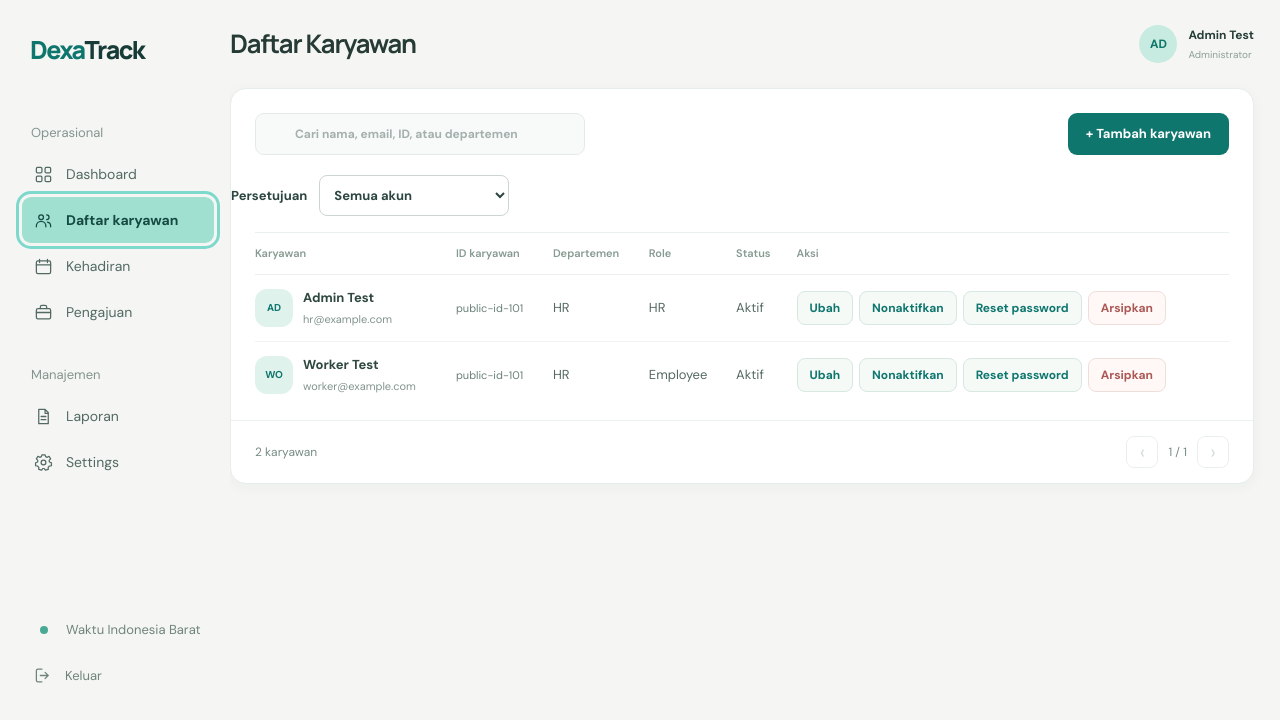
it: authenticated application › logs in through gateway, removes demo identity controls, and revokes session on logout
Earlier steps of the test are not shown.
Check: the text "Worker Test" is shown, box 303,356 -> 379,373
Click the button "+ Tambah karyawan": (1148, 134) 1068,113 -> 1229,155
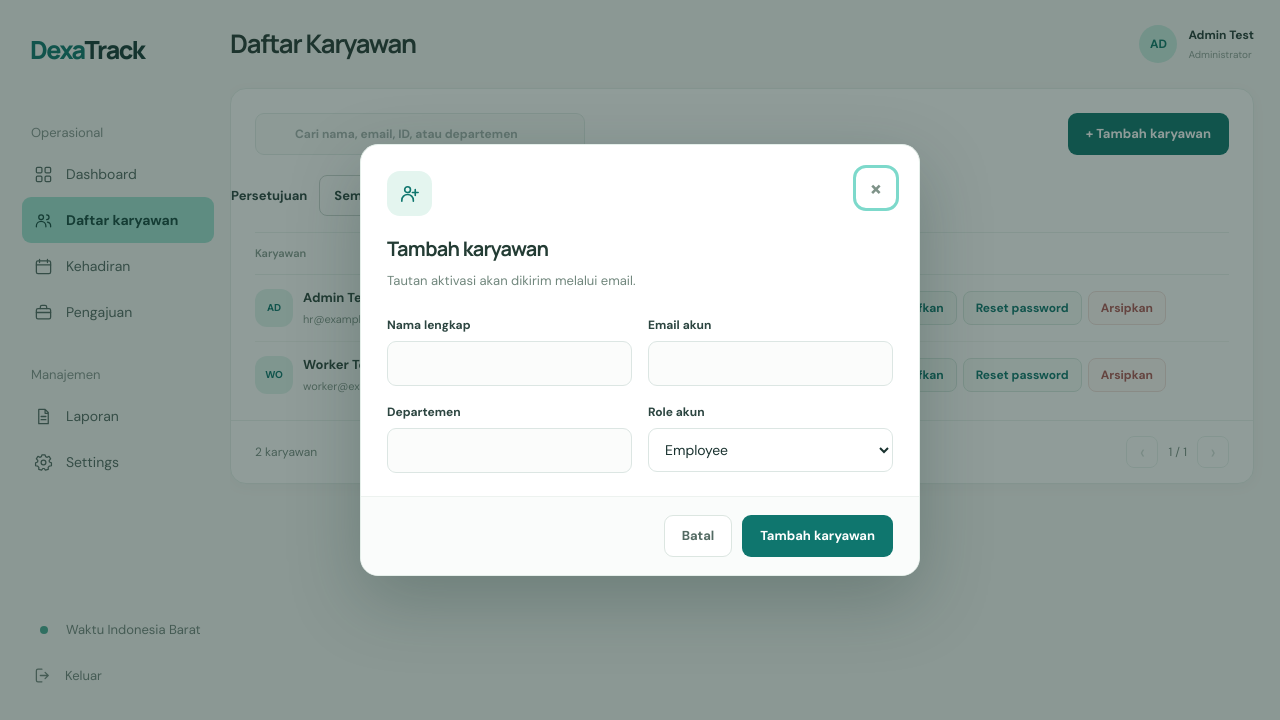
In the field labelled "Nama lengkap": (510, 363) 387,341 -> 632,386, type "New Worker"
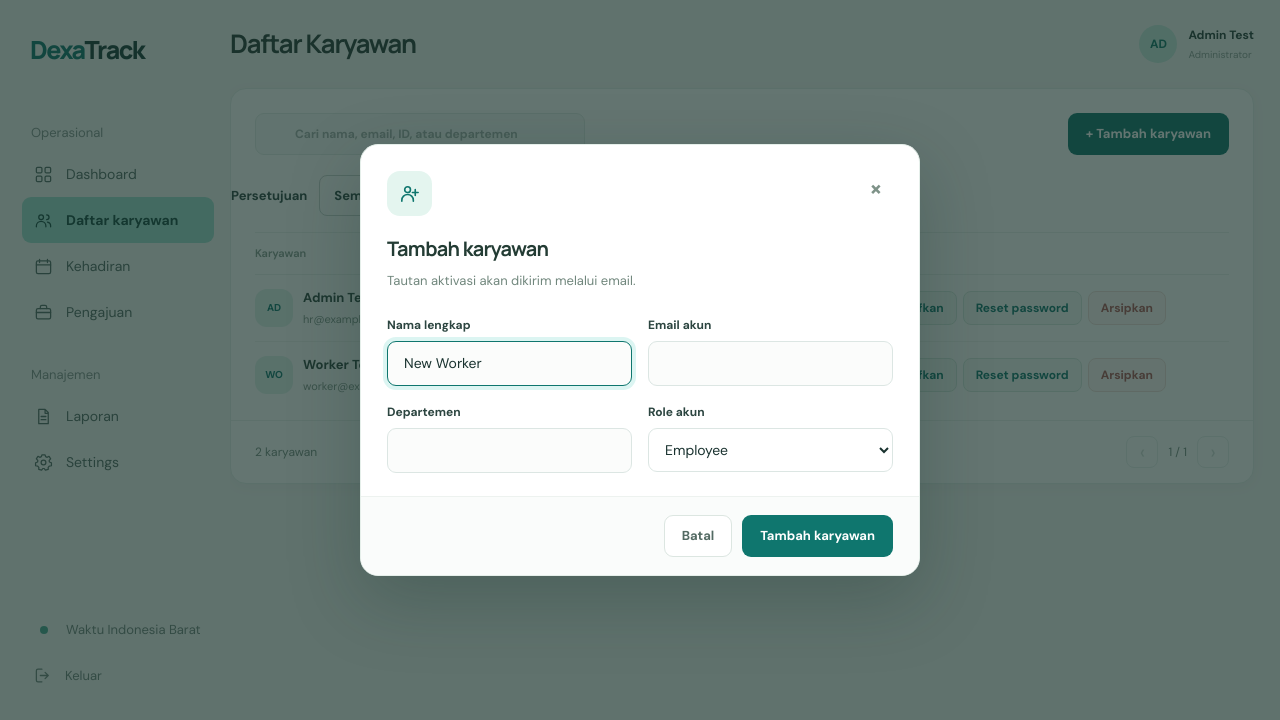
In the field labelled "Email akun": (770, 363) 648,341 -> 893,386, type "new@example.com"
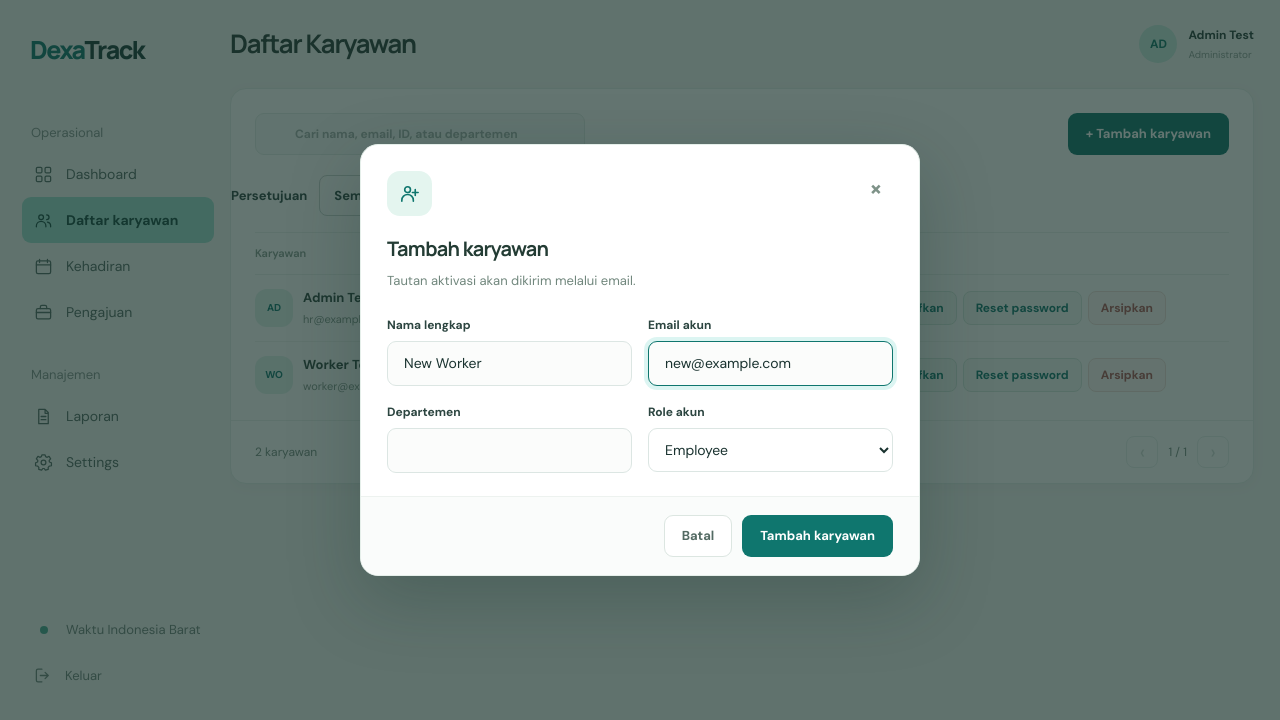
In the field labelled "Departemen": (510, 450) 387,428 -> 632,473, type "Engineering"
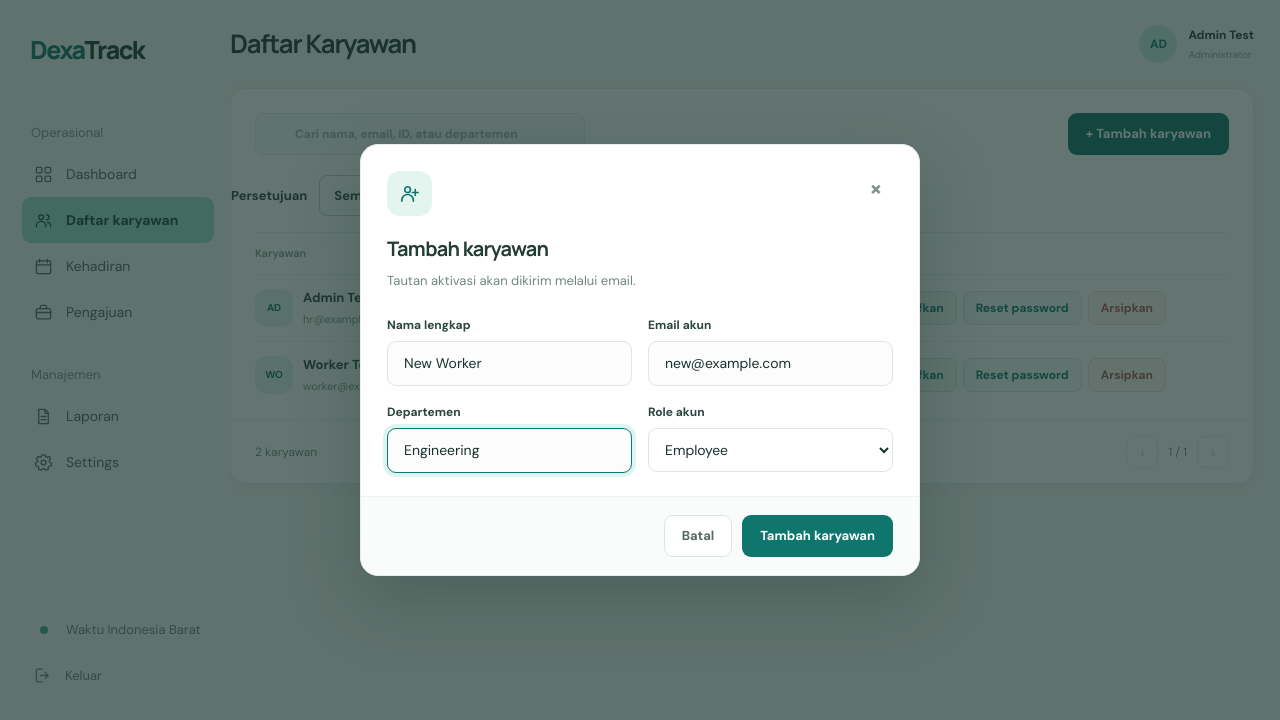
Click the button "Tambah karyawan": (818, 536) 742,515 -> 893,557
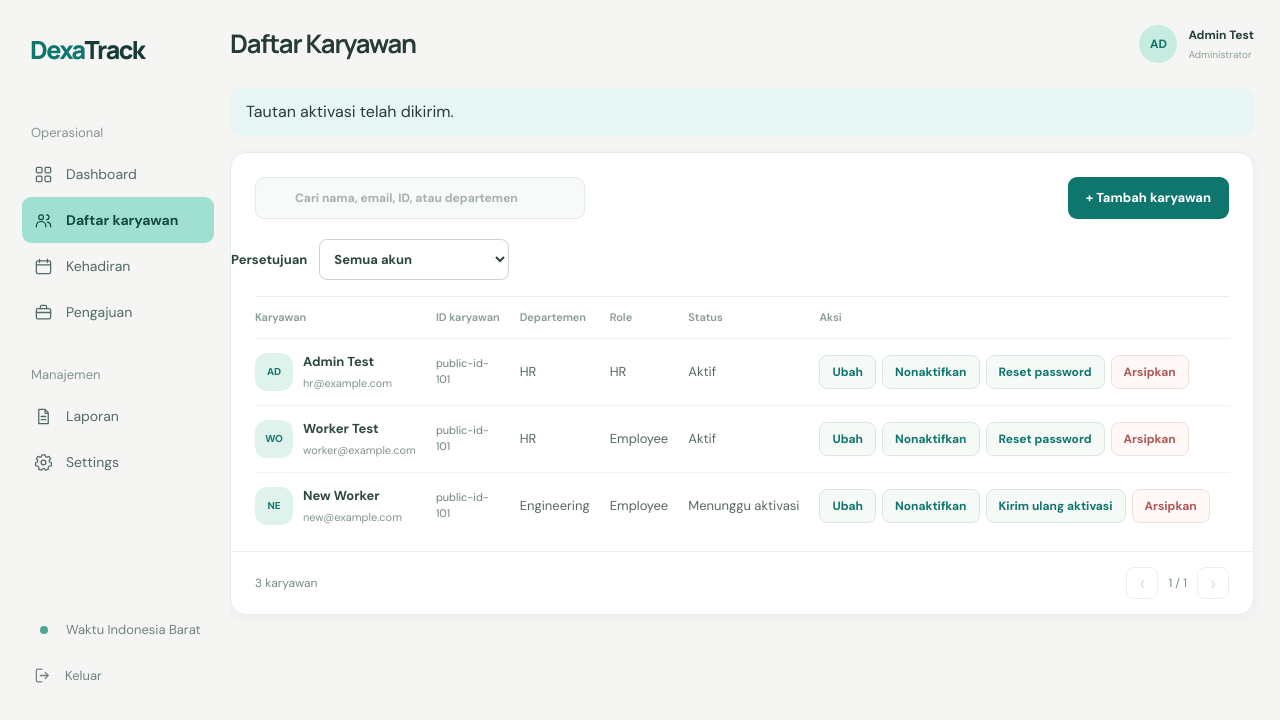
Check: the dialog is gone
Check: the text "New Worker" is shown, box 303,487 -> 380,504
Check: the text "Menunggu aktivasi" is shown, box 688,472 -> 820,539
Click the button "Keluar": (118, 675) 22,652 -> 214,698
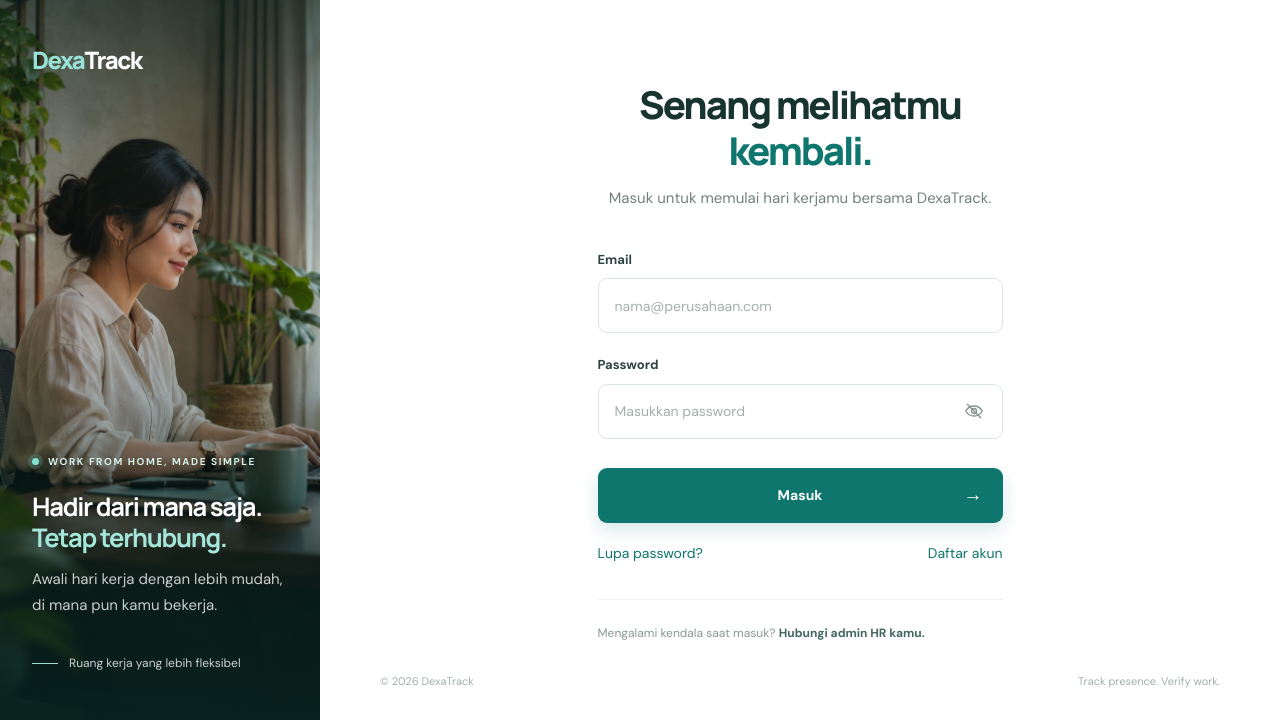
Check: the button "Masuk →" is shown, box 598,468 -> 1002,523
